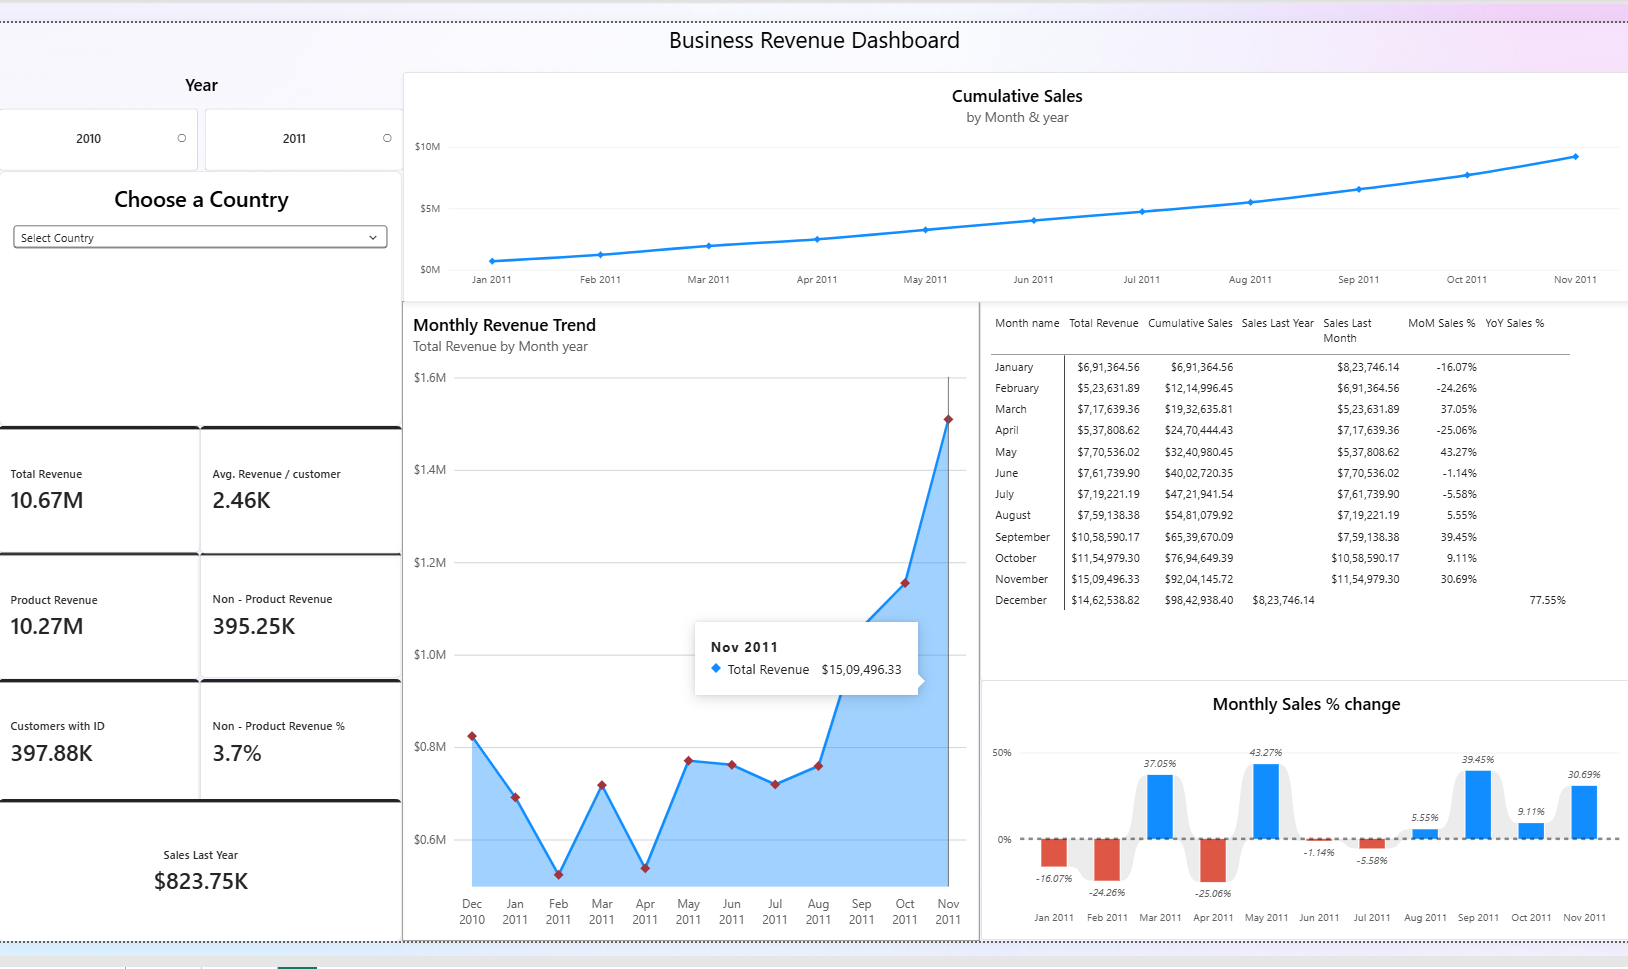

This screenshot's page, from the dashboard's own definition file:
{"tool":"powerbi","page":{"name":"Page 1","canvas":[1920,1080],"ordinal":0},"visuals":[{"type":"cardVisual","fields":{"Data":["Online Retail Clean.Product_Revenue"]},"box":[0,622.8,237.8,150.3],"z":0},{"type":"cardVisual","fields":{"Data":["Online Retail Clean.Total_Revenue"]},"box":[0,473.9,238.3,149.2],"z":1000},{"type":"cardVisual","fields":{"Data":["Online Retail Clean.Non_product_Revenue"]},"box":[237.8,622.8,237.8,149],"z":2000},{"type":"cardVisual","fields":{"Data":["Online Retail Clean.Valid_Customers"]},"box":[0,771.8,237.8,147.6],"z":3000},{"type":"cardVisual","fields":{"Data":["Online Retail Clean.Avg_Revenue_per_Customer"]},"box":[237.8,473.9,238.3,150.3],"z":4000},{"type":"cardVisual","fields":{"Data":["Online Retail Clean.Non_product_Revenue_pct"]},"box":[237.8,771.8,237.8,147.6],"z":5000},{"type":"pivotTable","fields":{"Rows":["All_dates.Year","All_dates.Month_number","All_dates.Month_name","All_dates.Date"],"Values":["Online Retail Clean.Total_Revenue","All_dates.Sales_ytd","All_dates.Sales_Last_Yr","All_dates.Sales_Last_Month","All_dates.MoM_growth_pct","All_dates.Pct_Change_LstYrSales"]},"box":[1154.9,326.9,765.3,446.9],"z":6000},{"type":"columnChart","title":"Monthly Sales % change","fields":{"Category":["All_dates.Month_year"],"Y":["All_dates.MoM_Sales_pct"]},"box":[1156.1,773.5,763.9,306.1],"z":7000},{"type":"lineChart","title":"Monthly Revenue Trend","fields":{"Category":["All_dates.Month_year"],"Y":["Online Retail Clean.Total_Revenue"]},"box":[475.6,326.6,679.2,753],"z":8000},{"type":"cardVisual","fields":{"Data":["All_dates.Sales_YTD"]},"box":[0,912.7,475.6,168.1],"z":9000},{"type":"advancedSlicerVisual","fields":{"Values":["All_dates.Year"]},"box":[1.2,57.6,476.5,116.5],"z":10000},{"type":"listSlicer","title":"Choose a Country","fields":{"Values":["Online Retail Clean.Country"]},"box":[1.2,174.1,474.1,300],"z":11000},{"type":"lineChart","title":"Cumulative Sales","fields":{"Category":["All_dates.Month year"],"Y":["All_dates.Cummulative Sales"]},"box":[476.5,57.6,1443.5,270.6],"z":12000},{"type":"textbox","box":[1.2,0,1918.8,57.6],"z":13000}]}

Visuals, with their boxes on the page's 1920x1080 design canvas (x1, y1, x2, y2). These are canvas units, not pixel positions in the 1628x969 screenshot, which may show the page scaled, cropped or inside an application window:
cardVisual - Online Retail Clean.Product_Revenue: rect(0, 623, 238, 773)
cardVisual - Online Retail Clean.Total_Revenue: rect(0, 474, 238, 623)
cardVisual - Online Retail Clean.Non_product_Revenue: rect(238, 623, 476, 772)
cardVisual - Online Retail Clean.Valid_Customers: rect(0, 772, 238, 919)
cardVisual - Online Retail Clean.Avg_Revenue_per_Customer: rect(238, 474, 476, 624)
cardVisual - Online Retail Clean.Non_product_Revenue_pct: rect(238, 772, 476, 919)
pivotTable - All_dates.Year x All_dates.Month_number: rect(1155, 327, 1920, 774)
"Monthly Sales % change" columnChart: rect(1156, 774, 1920, 1080)
"Monthly Revenue Trend" lineChart: rect(476, 327, 1155, 1080)
cardVisual - All_dates.Sales_YTD: rect(0, 913, 476, 1081)
advancedSlicerVisual - All_dates.Year: rect(1, 58, 478, 174)
"Choose a Country" listSlicer: rect(1, 174, 475, 474)
"Cumulative Sales" lineChart: rect(476, 58, 1920, 328)
textbox: rect(1, 0, 1920, 58)
